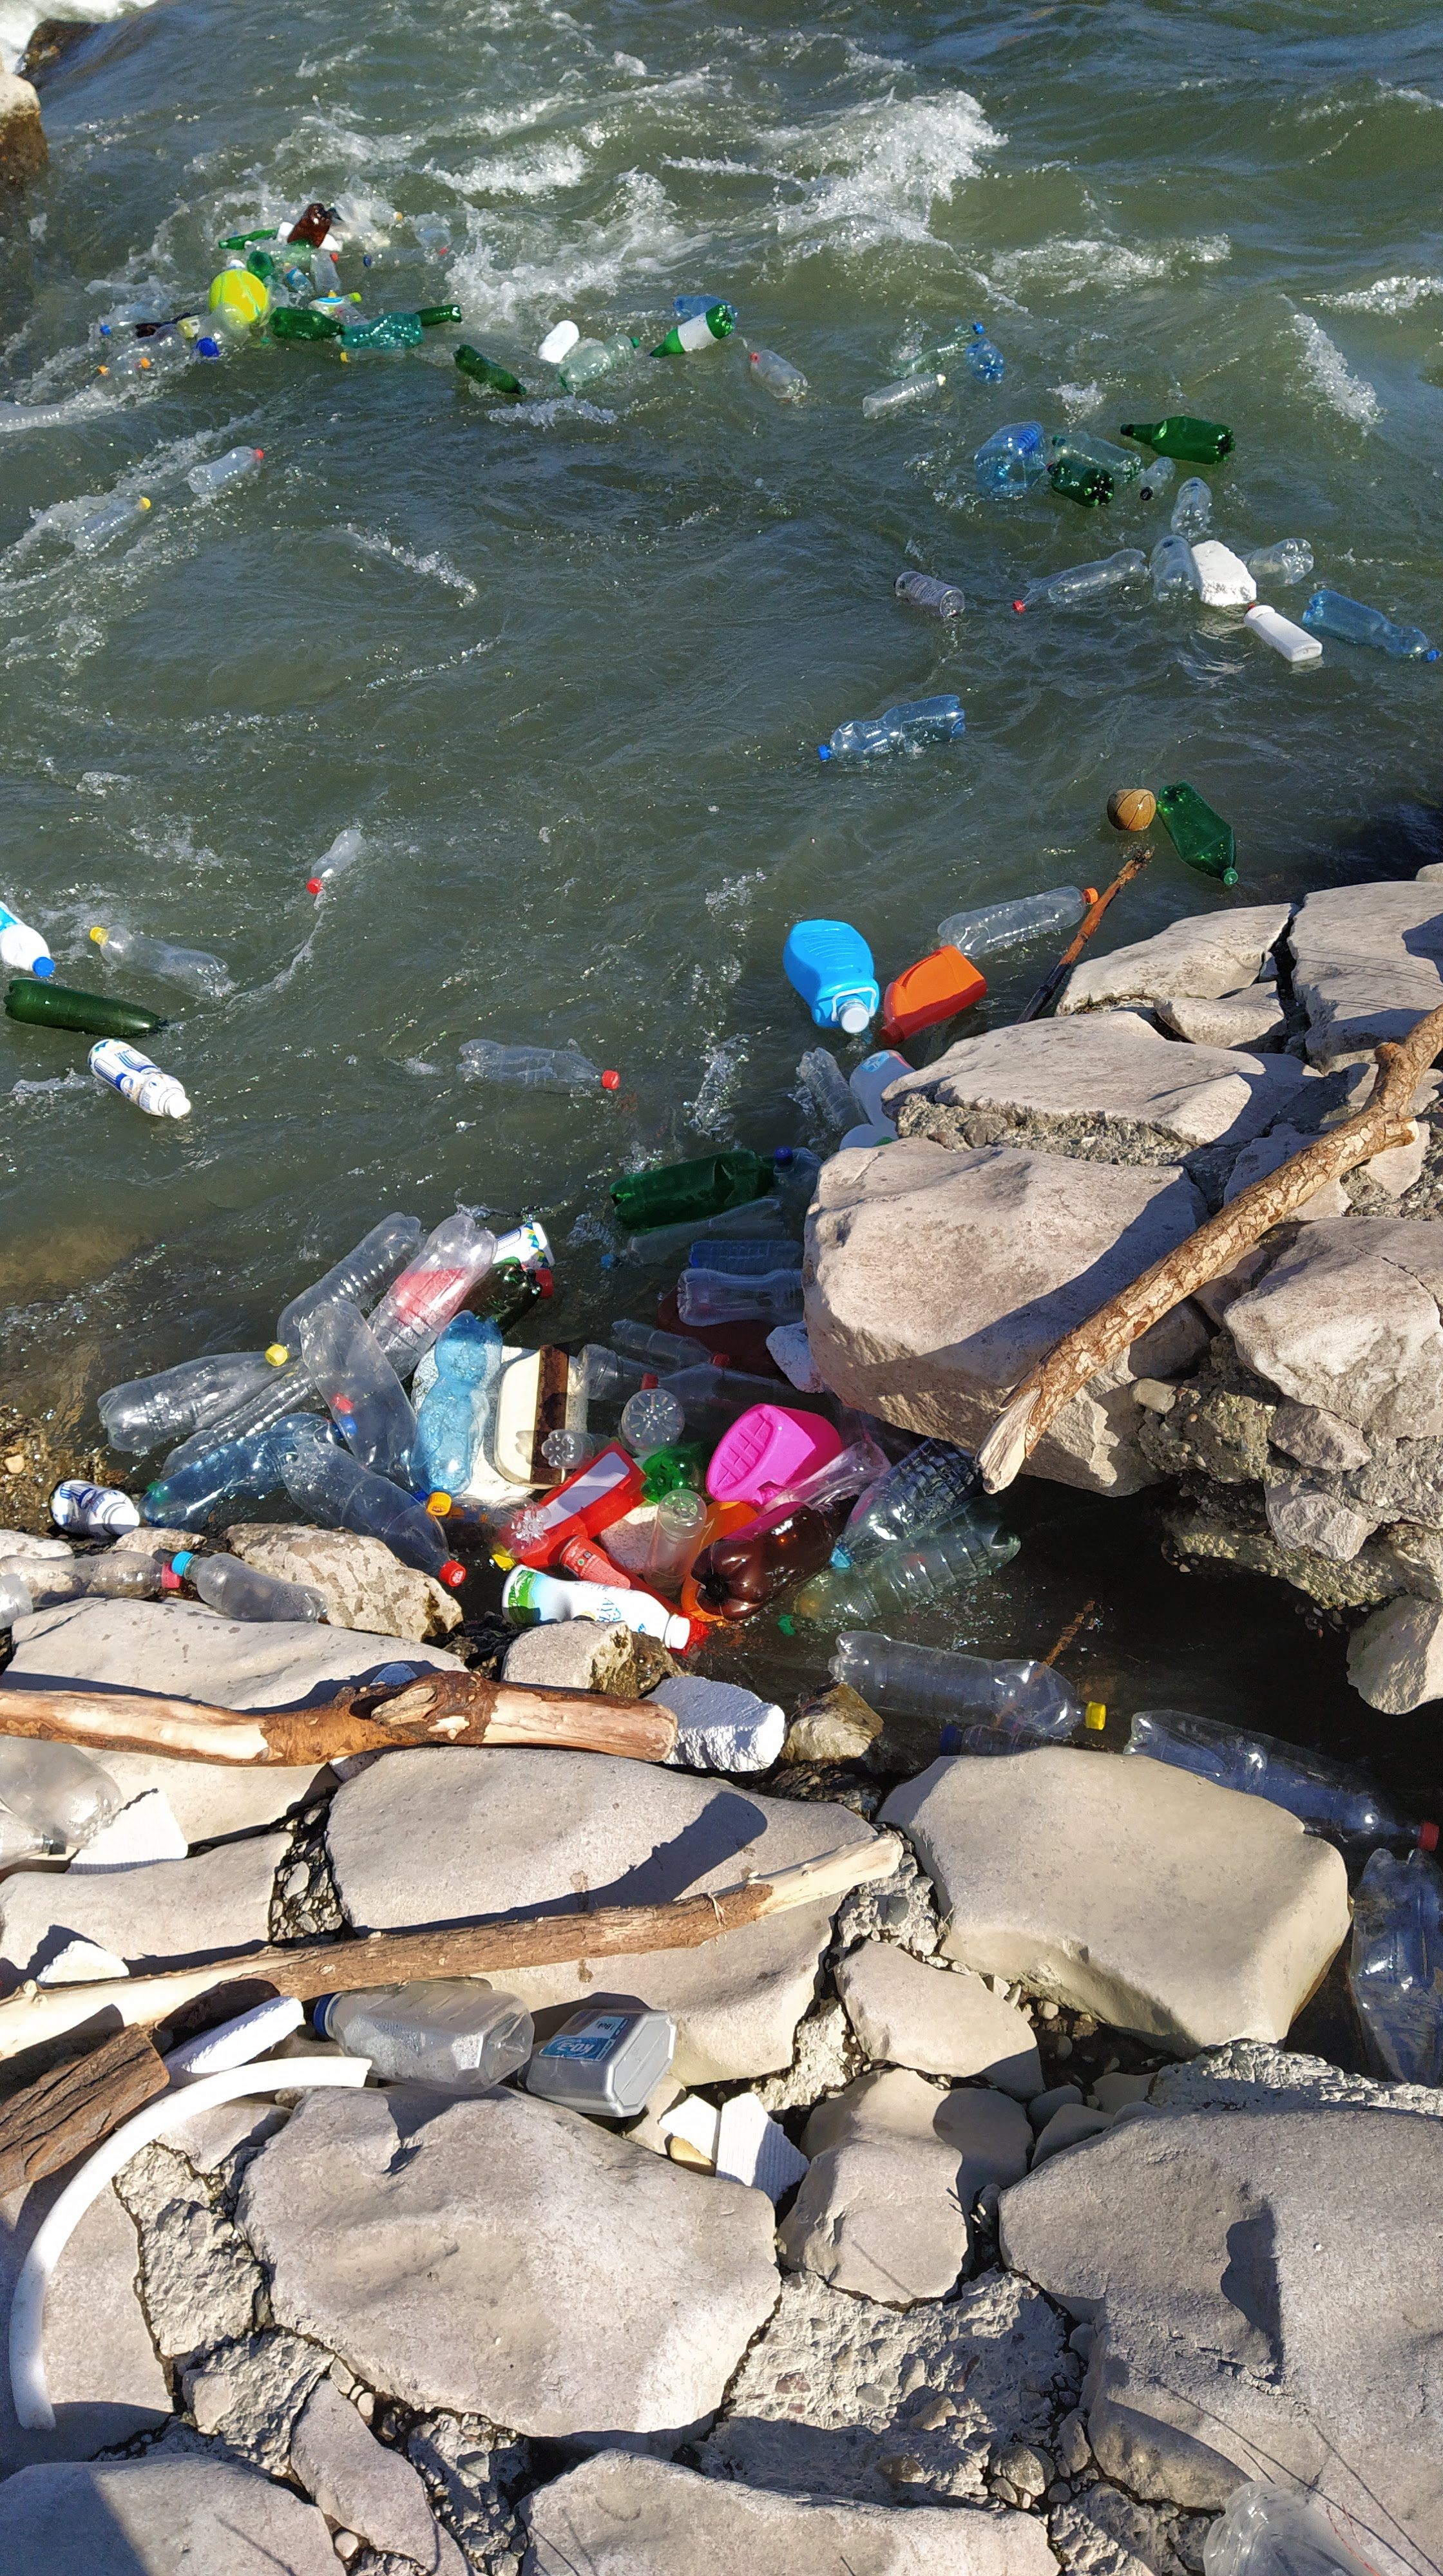Plastic Bottle: (1121, 1709, 1438, 1851), (779, 1495, 1022, 1638), (829, 1631, 1105, 1737), (282, 1442, 466, 1585), (301, 1300, 428, 1500), (264, 1212, 428, 1366), (147, 1355, 328, 1493), (140, 1410, 343, 1532), (367, 1214, 498, 1380), (1353, 1847, 1443, 2086), (96, 1350, 296, 1451), (490, 1442, 648, 1568), (830, 1438, 981, 1568), (411, 1309, 503, 1514), (691, 1502, 846, 1621), (501, 1566, 689, 1649), (639, 1364, 837, 1435), (705, 1403, 843, 1504), (609, 1148, 774, 1230), (627, 1194, 795, 1269), (878, 947, 988, 1049), (937, 888, 1098, 955), (783, 918, 878, 1031), (657, 1288, 781, 1375), (89, 924, 228, 1000), (816, 695, 967, 763), (1303, 589, 1438, 663), (678, 1500, 760, 1622), (4, 978, 170, 1037), (455, 1039, 620, 1093), (1015, 548, 1149, 614), (1156, 780, 1238, 886), (87, 1037, 191, 1118), (763, 1442, 892, 1502), (675, 1269, 804, 1327), (825, 1387, 917, 1461), (643, 1490, 706, 1594), (441, 1497, 551, 1557), (455, 1258, 540, 1334), (797, 1047, 868, 1132), (574, 1345, 671, 1403), (1119, 416, 1236, 464), (609, 1320, 729, 1366), (974, 421, 1048, 495), (940, 1725, 1112, 1757), (848, 1049, 921, 1123), (898, 324, 984, 379), (558, 334, 641, 391), (1245, 602, 1323, 662), (618, 1389, 685, 1456), (1052, 432, 1142, 481), (69, 497, 150, 552), (97, 324, 186, 373), (650, 306, 735, 357), (643, 1440, 714, 1500), (0, 902, 55, 977), (689, 1238, 804, 1274), (862, 373, 949, 419), (306, 828, 367, 893), (1149, 534, 1200, 609), (455, 345, 528, 395), (188, 446, 264, 492), (1241, 538, 1314, 586), (892, 570, 965, 617), (1046, 458, 1114, 508), (540, 1430, 618, 1470), (336, 311, 421, 349), (197, 303, 251, 357), (751, 349, 807, 400), (494, 1223, 556, 1269), (99, 295, 172, 334), (774, 1146, 823, 1203), (271, 308, 345, 341), (1170, 478, 1211, 538), (335, 195, 381, 244), (92, 357, 150, 396), (255, 239, 338, 265), (274, 221, 345, 251), (285, 202, 331, 248), (965, 338, 1004, 386), (536, 320, 579, 363), (363, 246, 439, 269), (673, 294, 737, 320), (140, 338, 195, 368), (262, 283, 289, 343), (1140, 456, 1174, 501), (0, 405, 64, 428), (414, 214, 451, 253), (136, 313, 193, 338), (837, 1123, 898, 1146), (310, 253, 340, 299), (340, 341, 404, 363), (218, 228, 280, 249), (308, 292, 361, 313), (416, 304, 462, 326), (359, 198, 402, 221), (283, 265, 317, 294), (329, 223, 368, 244), (246, 253, 278, 278), (336, 304, 367, 327), (179, 313, 204, 338), (536, 1269, 554, 1299)
